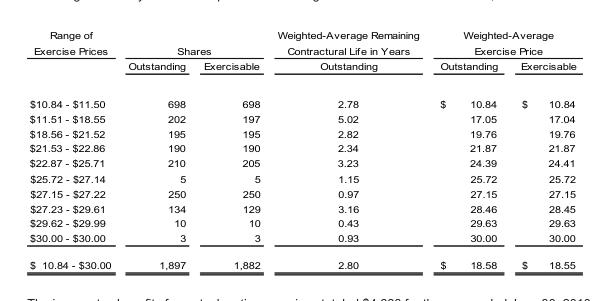table: (28, 29, 575, 270)
table column: (268, 29, 429, 270), (28, 29, 119, 270), (429, 29, 508, 270), (119, 29, 194, 270), (194, 29, 268, 270), (508, 29, 575, 270)
table column header: (28, 29, 575, 84)
table row: (28, 29, 575, 58), (28, 58, 575, 84), (28, 84, 575, 110), (28, 230, 575, 251), (28, 251, 575, 270), (28, 170, 575, 186), (28, 110, 575, 125), (28, 125, 575, 140), (28, 140, 575, 155), (28, 155, 575, 170), (28, 200, 575, 215), (28, 215, 575, 230), (28, 186, 575, 200)
table spanning cell: (268, 29, 429, 84), (28, 29, 119, 84), (119, 29, 268, 58), (429, 29, 575, 58)
